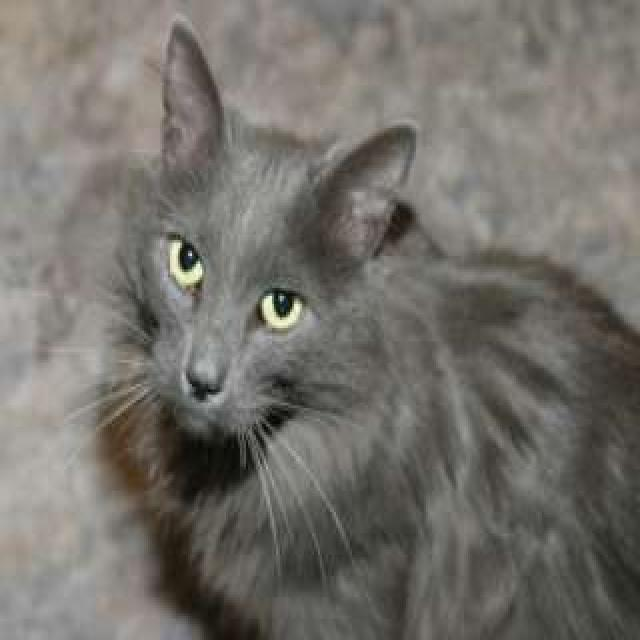Cats: (80, 13, 638, 638)
